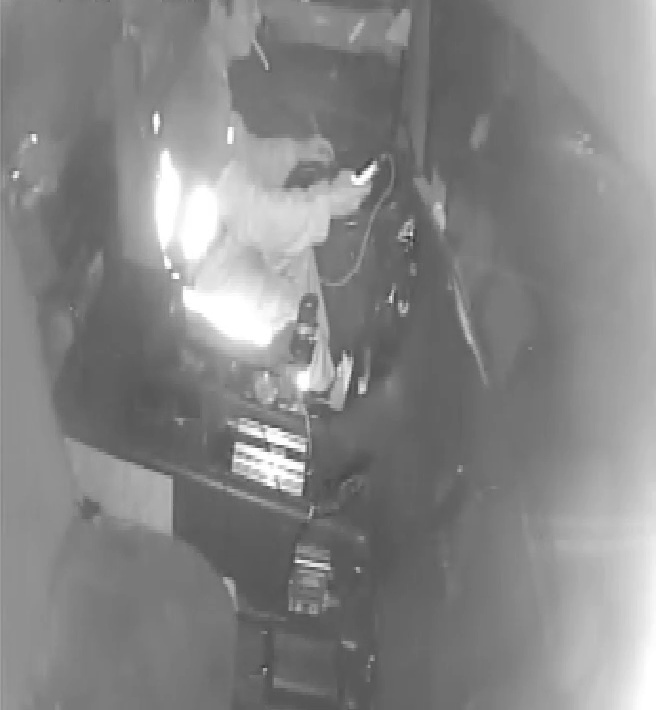cellphone: (339, 154, 384, 188)
